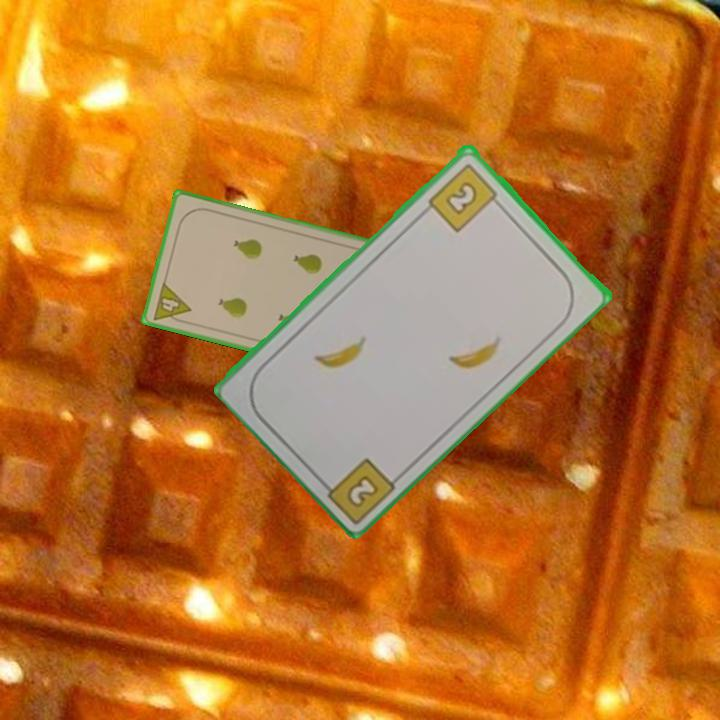2b: (424, 159, 505, 235), (342, 471, 382, 510)
4p: (149, 279, 194, 327)
